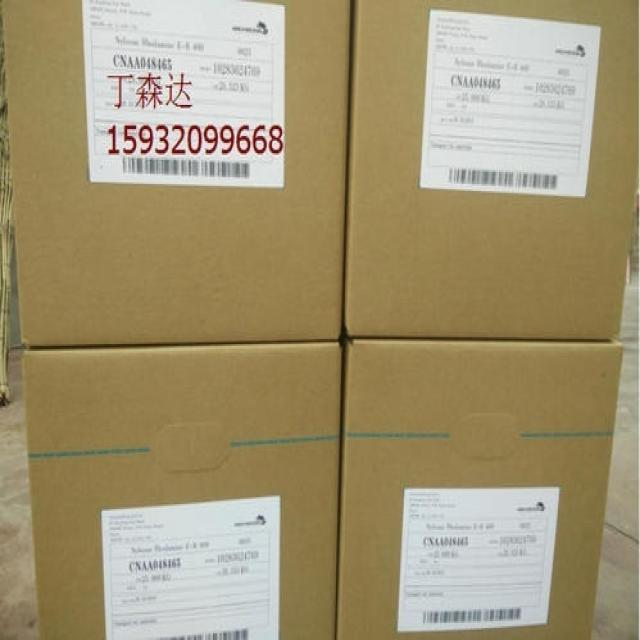box: (0, 0, 351, 348), (342, 0, 640, 339), (22, 339, 344, 640), (336, 339, 625, 640)
